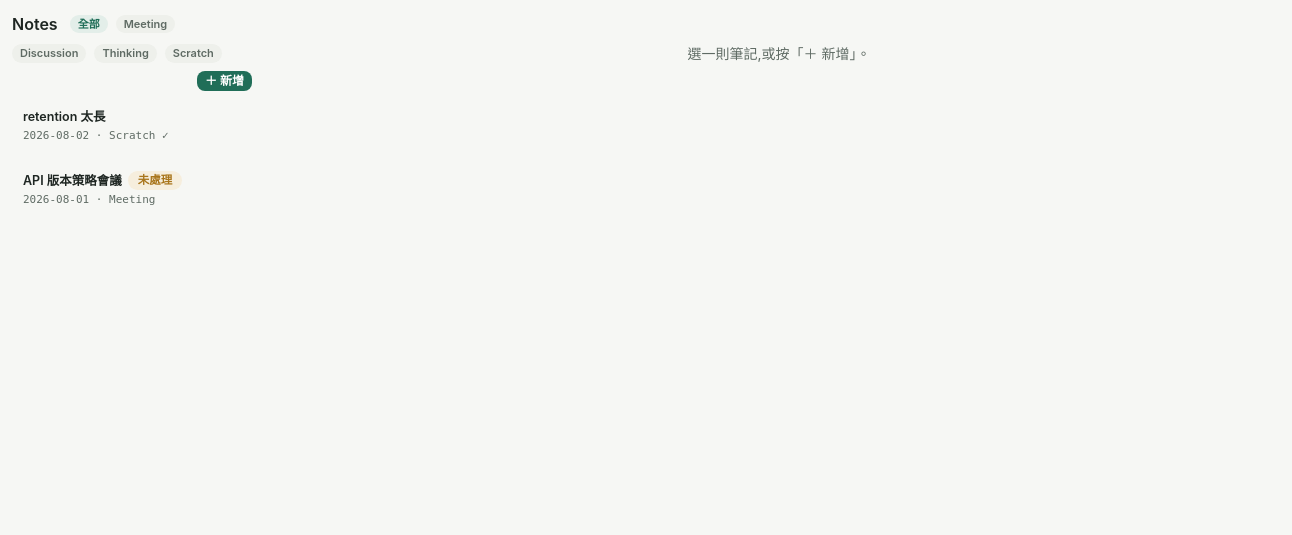
Test: Notes › selecting a note opens editor with metadata and preview
Click the text "API 版本策略會議" at (103, 180), box top-left (23, 171), bottom-right (182, 190)
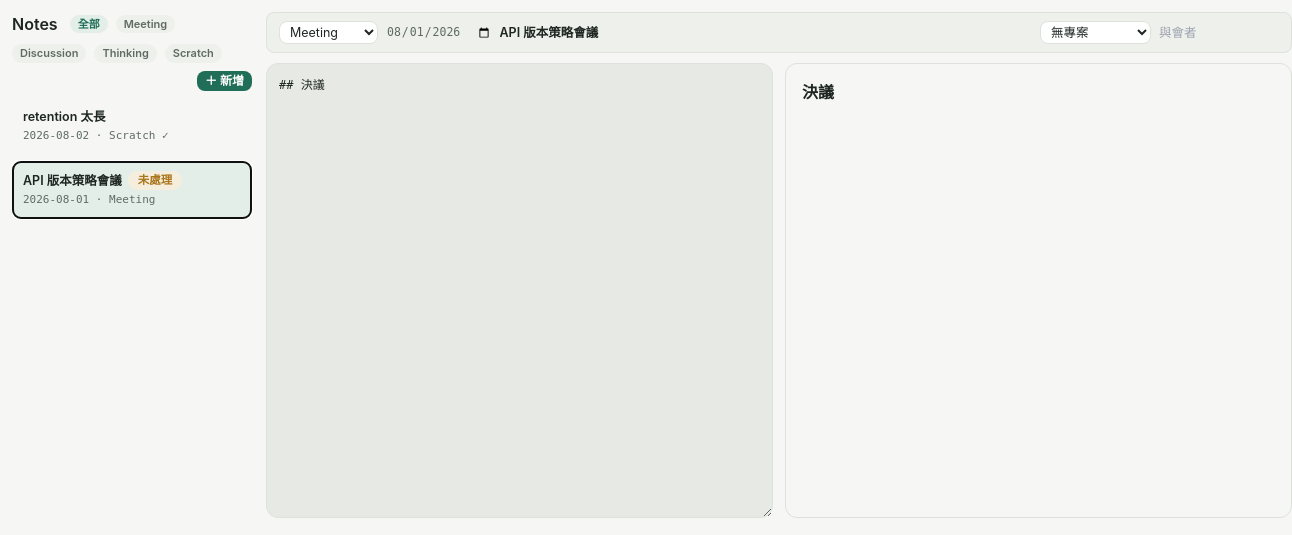
Now the field showing "API 版本策略會議" is shown, box top-left (500, 22), bottom-right (1032, 43)
Now the heading "決議" is shown, box top-left (802, 82), bottom-right (834, 102)
